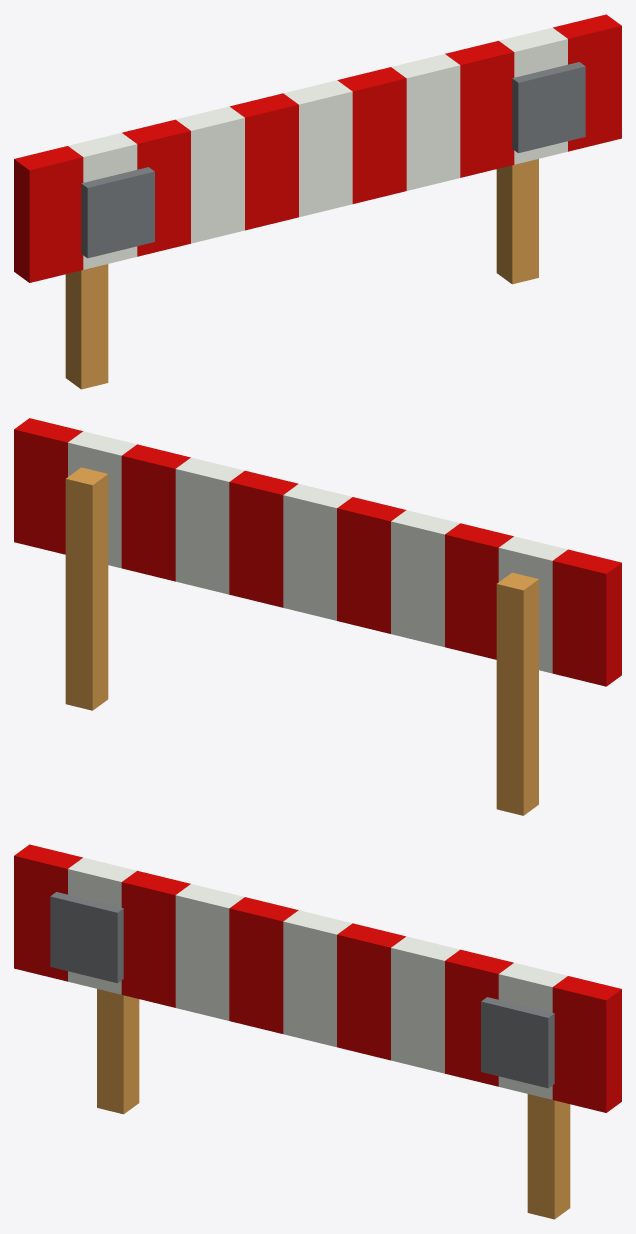
Rendered from blocker.glb.
3 views of the same model, one above another, from view 1: azimuth 30°, elevation 25°; view 2: azimuth 150°, elevation 25°; view 3: azimuth 330°, elevation 25° (orthographic).
Parts seen in each view (by area): view 1: Cube.020, Cube.031, Cube.008; view 2: Cube.020, Cube.008, Cube.031; view 3: Cube.020, Cube.008, Cube.031.
Part boxes in pixels (bbox=[...]): Cube.020: bbox=[14, 14, 621, 282]; Cube.031: bbox=[65, 264, 108, 389]; Cube.008: bbox=[496, 159, 538, 284]; Cube.020: bbox=[14, 418, 621, 686]; Cube.008: bbox=[65, 467, 108, 710]; Cube.031: bbox=[496, 572, 538, 815]; Cube.020: bbox=[14, 844, 621, 1112]; Cube.008: bbox=[527, 1094, 570, 1219]; Cube.031: bbox=[97, 989, 139, 1114].
Bounding box in the file's own units: 22 × 8.76 × 2.7.
